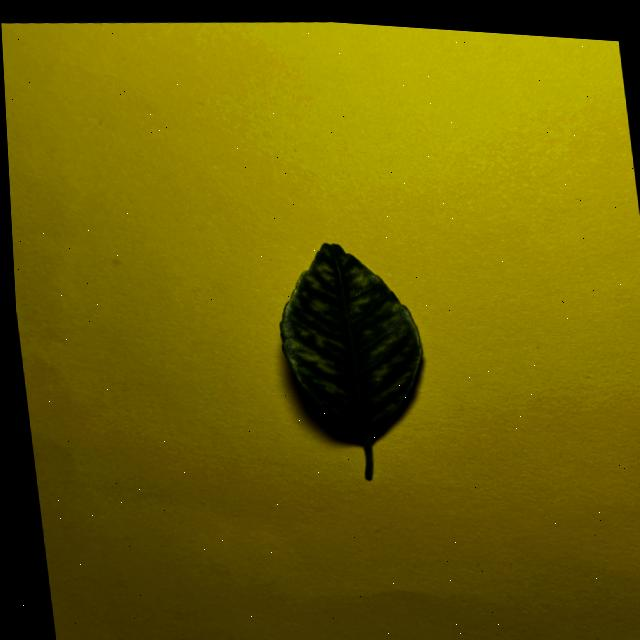greening: (279, 242, 420, 478)
